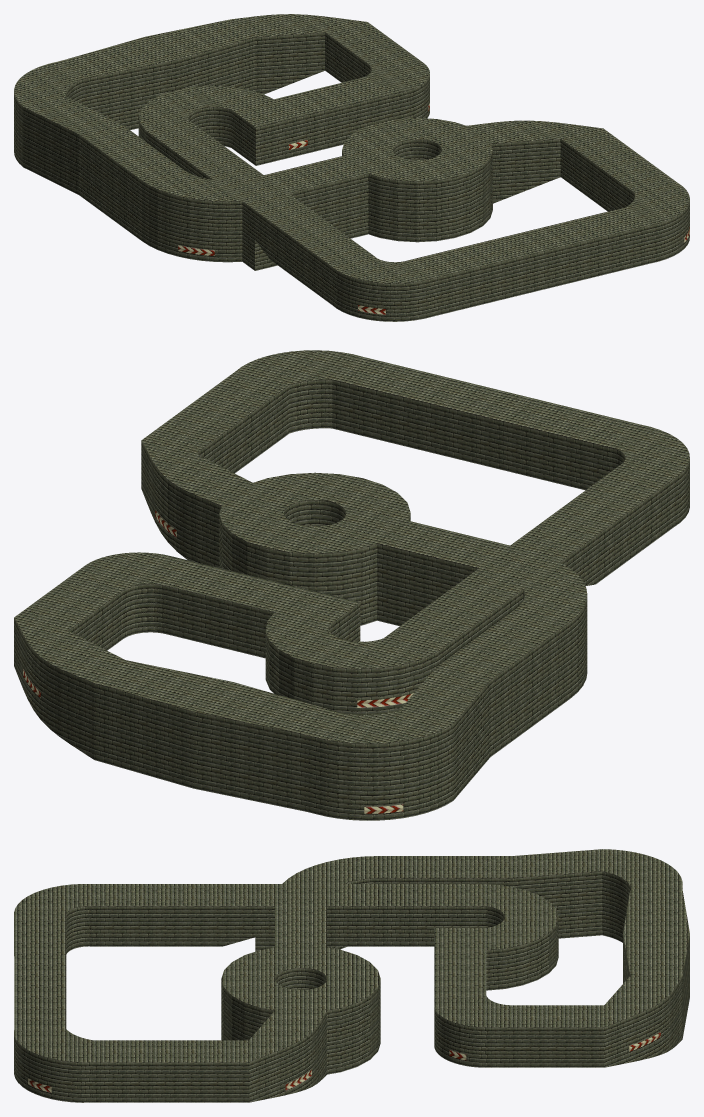
The picture shows the model from 3 angles, top to bottom: view 1: azimuth 30°, elevation 25°; view 2: azimuth 150°, elevation 25°; view 3: azimuth 270°, elevation 25°; orthographic projection. The views are drawn at different scales.
Parts seen in each view (by area): view 1: course_SKP__Wall, course_SKP__Material1; view 2: course_SKP__Wall, course_SKP__Material1; view 3: course_SKP__Wall, course_SKP__Material1.
Boxes of the visible parts, left/top/right/bottom form: course_SKP__Wall: left=14, top=14, right=689, bottom=321; course_SKP__Material1: left=178, top=102, right=689, bottom=314; course_SKP__Wall: left=14, top=350, right=689, bottom=820; course_SKP__Material1: left=23, top=510, right=413, bottom=813; course_SKP__Wall: left=14, top=849, right=689, bottom=1102; course_SKP__Material1: left=28, top=1032, right=660, bottom=1092.
Bounding box in the file's own units: 33857 × 4750 × 45369.
Materials: 7 (7 with a texture image).
